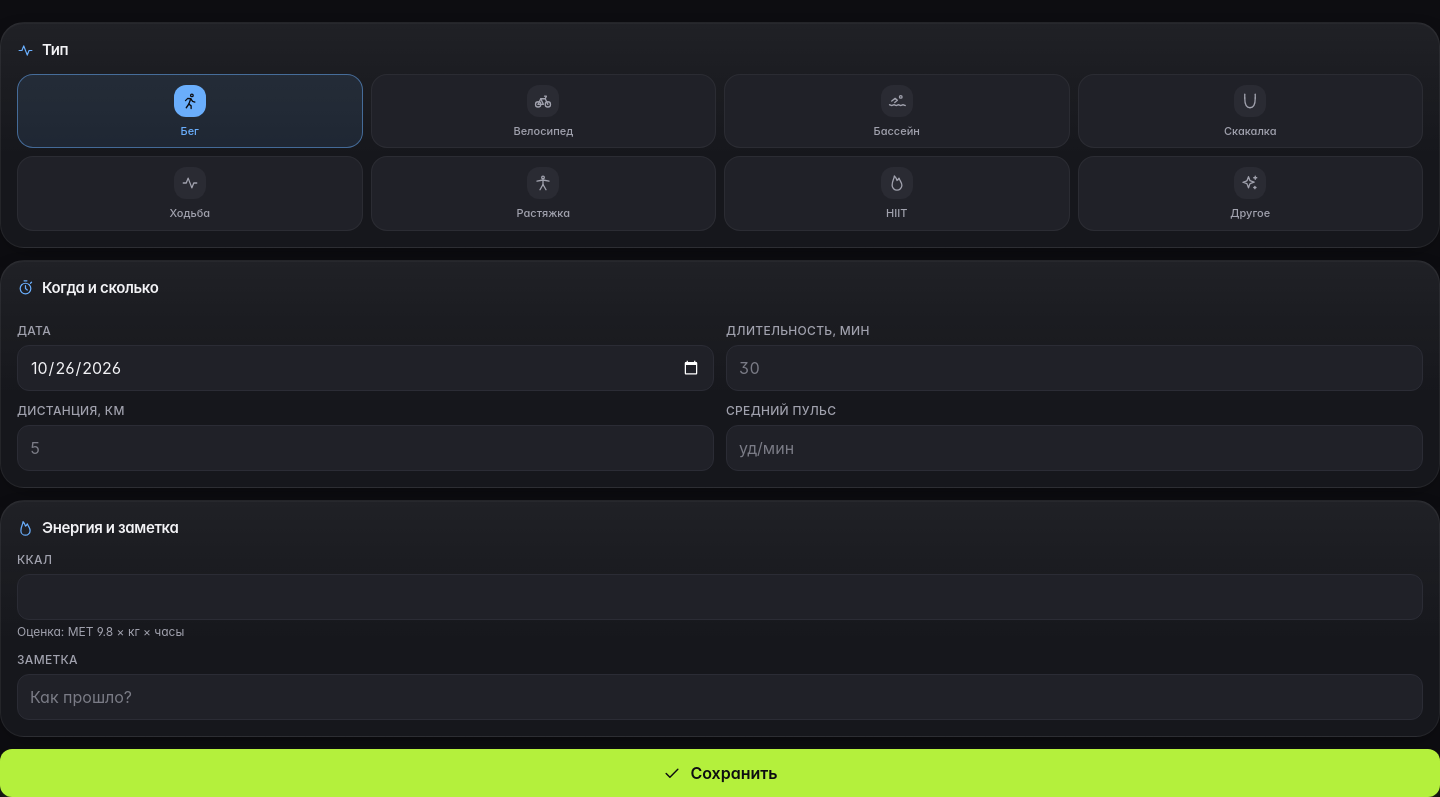
Test case: NewActivityPage › requires a duration
(page scrolled)
Click the button "Сохранить" at x=720, y=772, box [0,748,1439,796]
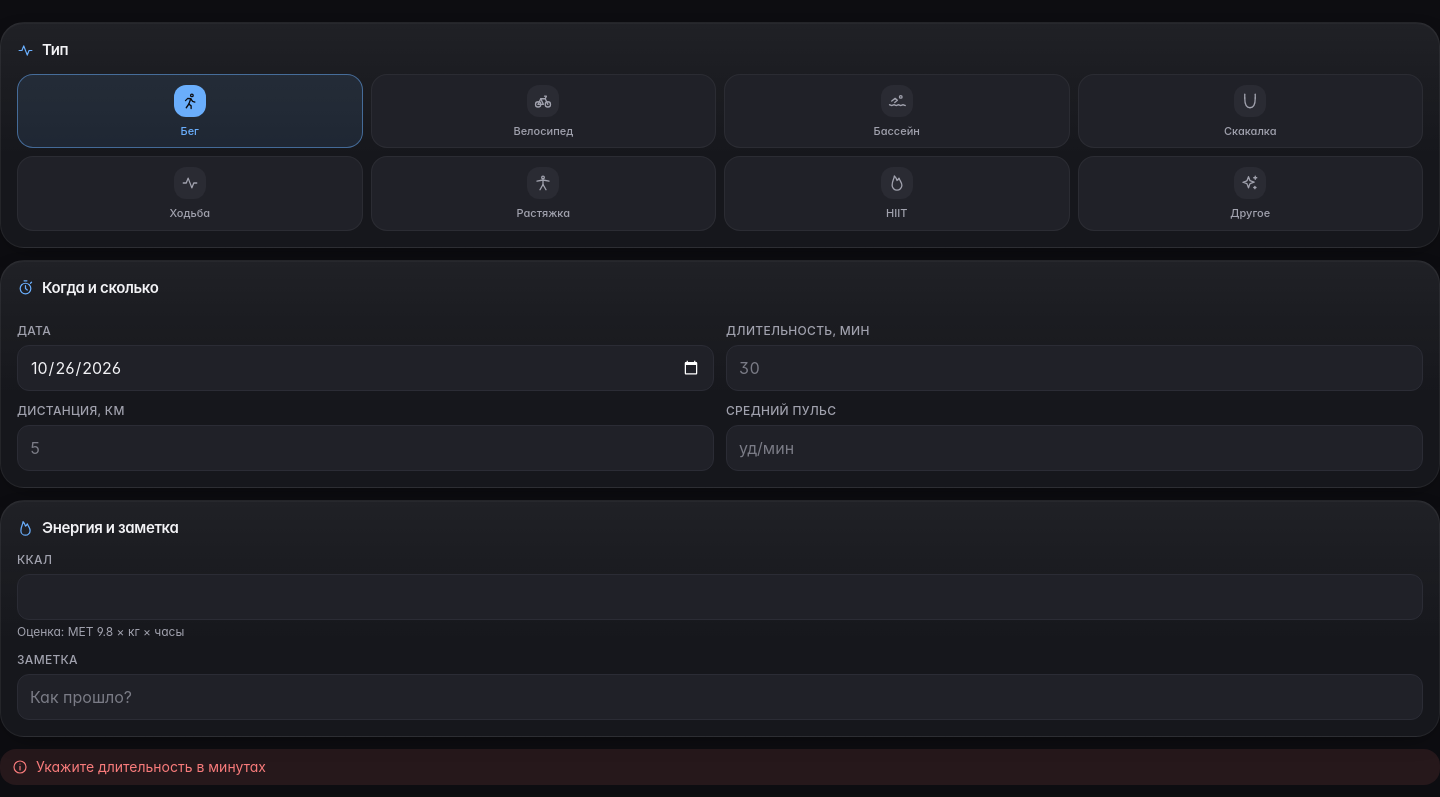
Expected: the message shows "длительность", [36,758,266,774]
